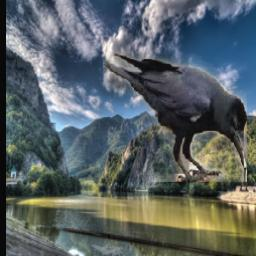Crow: (104, 52, 248, 183)
